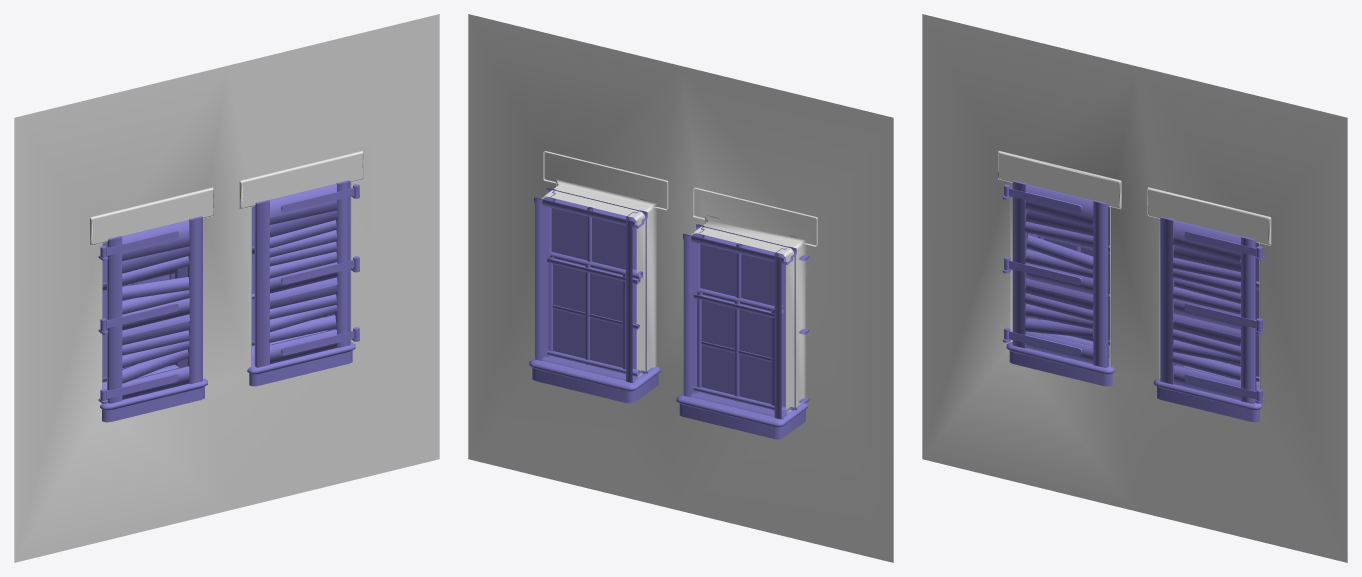
File: window_02.fbx
3 renders of one model, left to right at view 1: azimuth 30°, elevation 25°; view 2: azimuth 150°, elevation 25°; view 3: azimuth 330°, elevation 25°, orthographic.
Visible parts, largest first — view 1: Plane.018, Cube.035, Cube.036, Cube.030; view 2: Plane.018, Cube.030; view 3: Plane.018, Cube.035, Cube.036, Cube.030.
Boxes of the visible parts, x1=… form: Plane.018: x1=14, y1=14, x2=439, y2=562; Cube.035: x1=254, y1=180, x2=359, y2=367; Cube.036: x1=100, y1=216, x2=202, y2=403; Cube.030: x1=98, y1=195, x2=359, y2=422; Plane.018: x1=468, y1=14, x2=893, y2=562; Cube.030: x1=529, y1=188, x2=809, y2=439; Plane.018: x1=922, y1=14, x2=1347, y2=562; Cube.035: x1=1160, y1=216, x2=1262, y2=404; Cube.036: x1=1004, y1=180, x2=1108, y2=367; Cube.030: x1=1002, y1=195, x2=1264, y2=422.
Bounding box in the file's own units: 4 × 4 × 0.5279.
